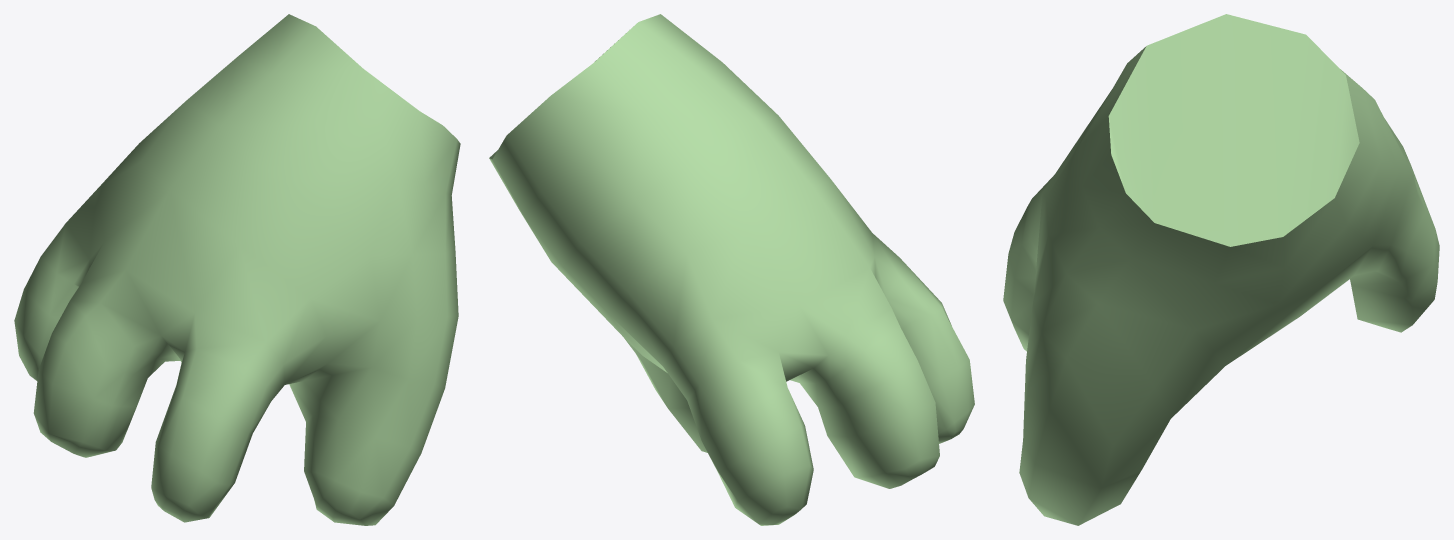
The model's file is SM_ FE_Char_alien_Right_Hand.fbx.
3 views of the same model, side by side, from view 1: azimuth 30°, elevation 25°; view 2: azimuth 150°, elevation 25°; view 3: azimuth 270°, elevation 25° (orthographic). The views are drawn at different scales.
Parts seen in each view (by area): view 1: Right_Hand; view 2: Right_Hand; view 3: Right_Hand.
Boxes of the visible parts, box(x1,y1,x2,y2) form: Right_Hand: box(14, 14, 460, 525); Right_Hand: box(489, 14, 974, 525); Right_Hand: box(1003, 14, 1439, 525).
Bounding box in the file's own units: 19.39 × 20.71 × 15.9.
